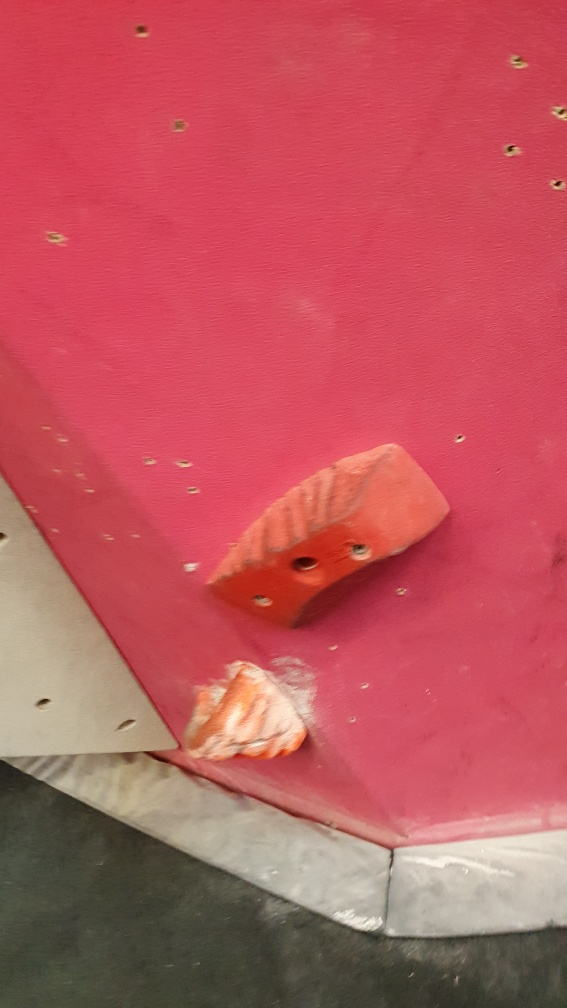Crimp: (201, 436, 456, 635)
Jug: (176, 656, 315, 772)
